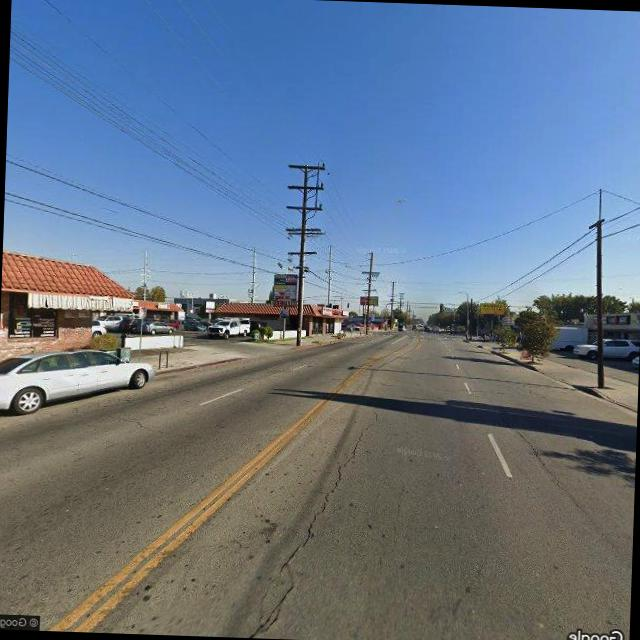pothole: (250, 394, 380, 636), (499, 402, 585, 500)
